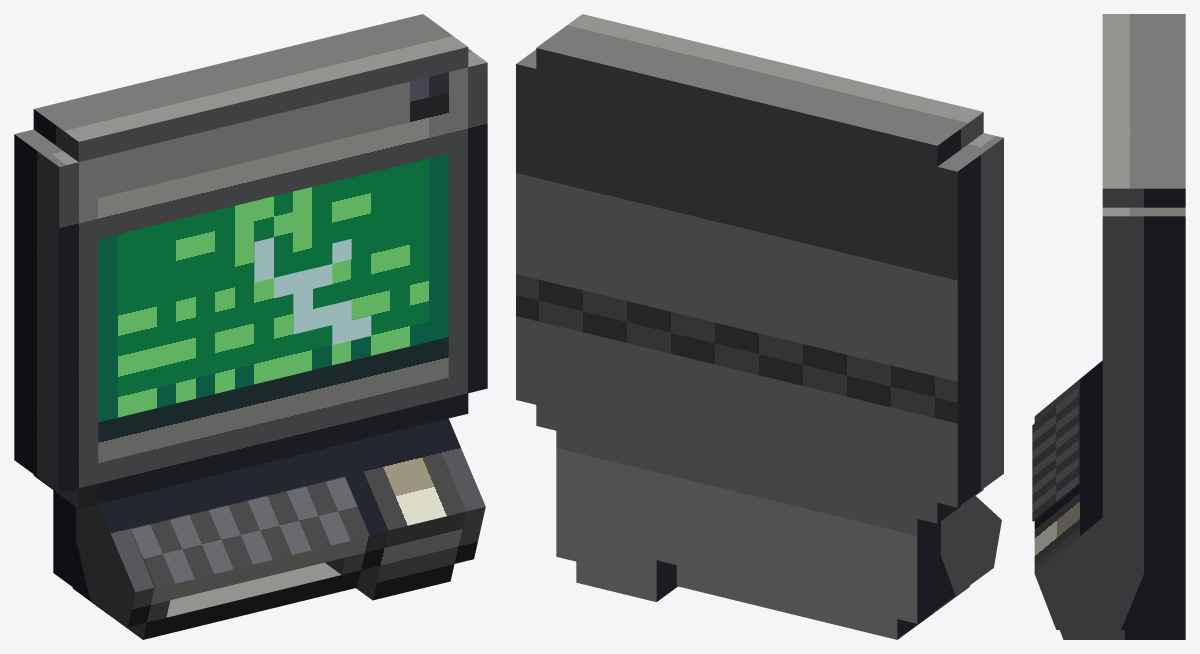
File: newscaster_normal_crack_1.glb
3 renders of one model, left to right at view 1: azimuth 30°, elevation 25°; view 2: azimuth 150°, elevation 25°; view 3: azimuth 270°, elevation 25°, orthographic. The views are drawn at different scales.
Parts seen in each view (by area): view 1: Continuous_Housing, Screen_Overlay, Keyboard_Panel, Damage_Overlay; view 2: Continuous_Housing; view 3: Continuous_Housing, Keyboard_Panel.
Boxes of the visible parts, x1,y1,x2,y2 form: Continuous_Housing: (14,14,487,639); Screen_Overlay: (98,153,448,422); Keyboard_Panel: (130,476,369,588); Damage_Overlay: (254,237,371,345); Continuous_Housing: (516,14,1003,639); Continuous_Housing: (1034,14,1185,639); Keyboard_Panel: (1032,387,1079,521).
Size of the model in its own units: 0.6188 by 0.7031 by 0.2081.
Materials: 4 (4 with a texture image).
